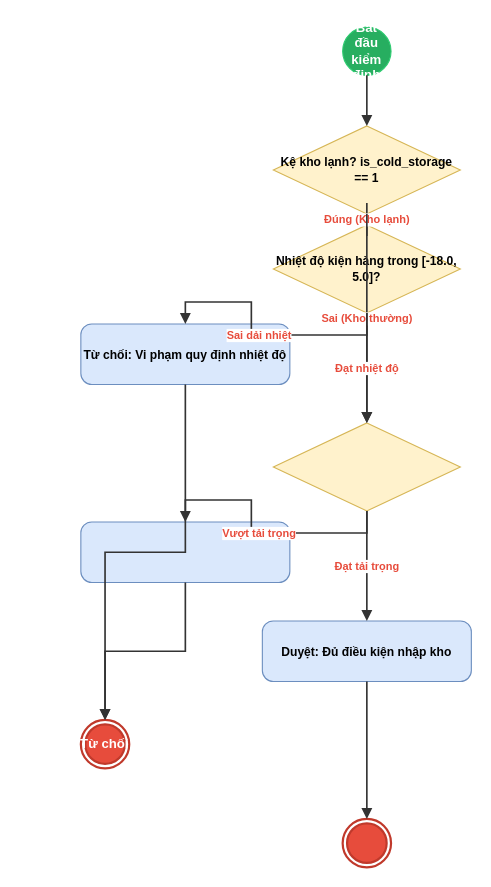
Image size: 491x887. Some labels were removed from this diagram. Here are the shapes that lost their labels. From the top down, the box of each, then its label:
(272, 422, 460, 511): Tổng trọng lượng sau nhập <= 500.0 kg?
(80, 521, 290, 582): Từ chối: Vượt quá tải trọng 500kg
(341, 817, 392, 868): Kết thúc: Thành công
